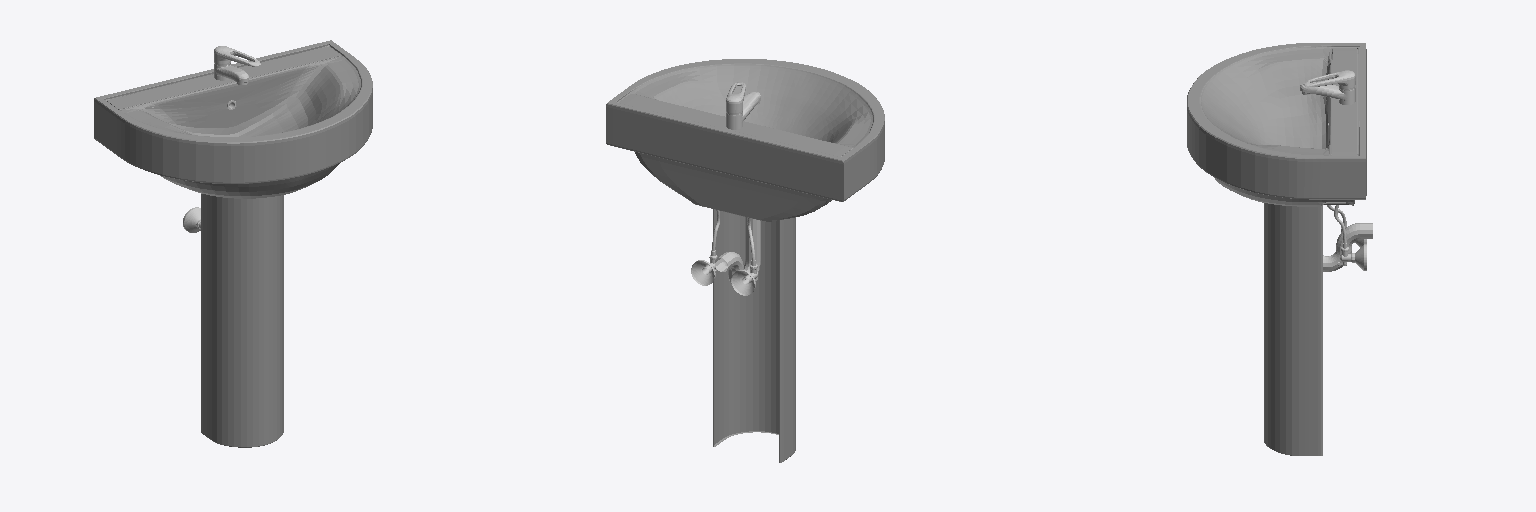
Rendered from Sink.obj.
The picture shows the model from 3 angles: view 1: azimuth 30°, elevation 25°; view 2: azimuth 150°, elevation 25°; view 3: azimuth 270°, elevation 25°; orthographic projection.
Parts seen in each view (by area): view 1: Bowl, Stand, Faucet_Handle; view 2: Bowl, Stand, Drain_Tube, Valve_01, Valve_02, Faucet; view 3: Bowl, Stand, Drain_Tube, Faucet, Faucet_Handle.
Part boxes in pixels (x1,y1,x2,y2): Bowl: (94, 40, 372, 198); Stand: (201, 194, 283, 447); Faucet_Handle: (214, 46, 260, 66); Bowl: (606, 59, 884, 221); Stand: (713, 209, 795, 462); Drain_Tube: (714, 217, 760, 284); Valve_01: (731, 260, 757, 295); Valve_02: (691, 250, 717, 285); Faucet: (726, 92, 760, 129); Bowl: (1187, 43, 1366, 206); Stand: (1264, 203, 1322, 455); Drain_Tube: (1323, 223, 1372, 271); Faucet: (1300, 82, 1355, 104); Faucet_Handle: (1303, 70, 1355, 89).
Size of the model in its own units: 3.09 by 4.57 by 2.1.